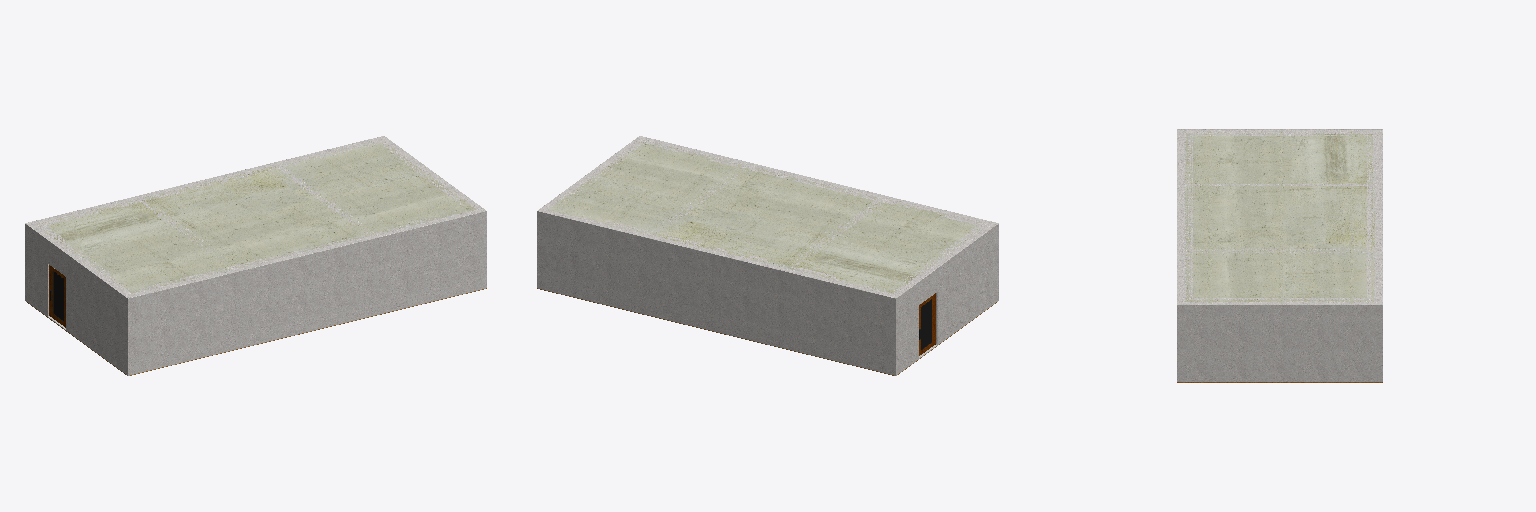
The picture shows the model from 3 angles: view 1: azimuth 30°, elevation 25°; view 2: azimuth 150°, elevation 25°; view 3: azimuth 270°, elevation 25°; orthographic projection.
Visible parts, largest first — view 1: Plane, Plane.001, Cube.001; view 2: Plane, Plane.001, Cube.001; view 3: Plane.001, Plane, Cube.001.
Boxes of the visible parts, x1=… form: Plane: x1=25, y1=136, x2=486, y2=375; Plane.001: x1=37, y1=142, x2=475, y2=293; Cube.001: x1=45, y1=148, x2=466, y2=267; Plane: x1=537, y1=136, x2=998, y2=375; Plane.001: x1=548, y1=140, x2=980, y2=293; Cube.001: x1=556, y1=153, x2=961, y2=281; Plane.001: x1=1185, y1=133, x2=1374, y2=301; Plane: x1=1177, y1=129, x2=1382, y2=381; Cube.001: x1=1208, y1=131, x2=1353, y2=302.
Bounding box in the file's own units: 7.96 × 1.65 × 3.95.
Materials: 9 (4 with a texture image).